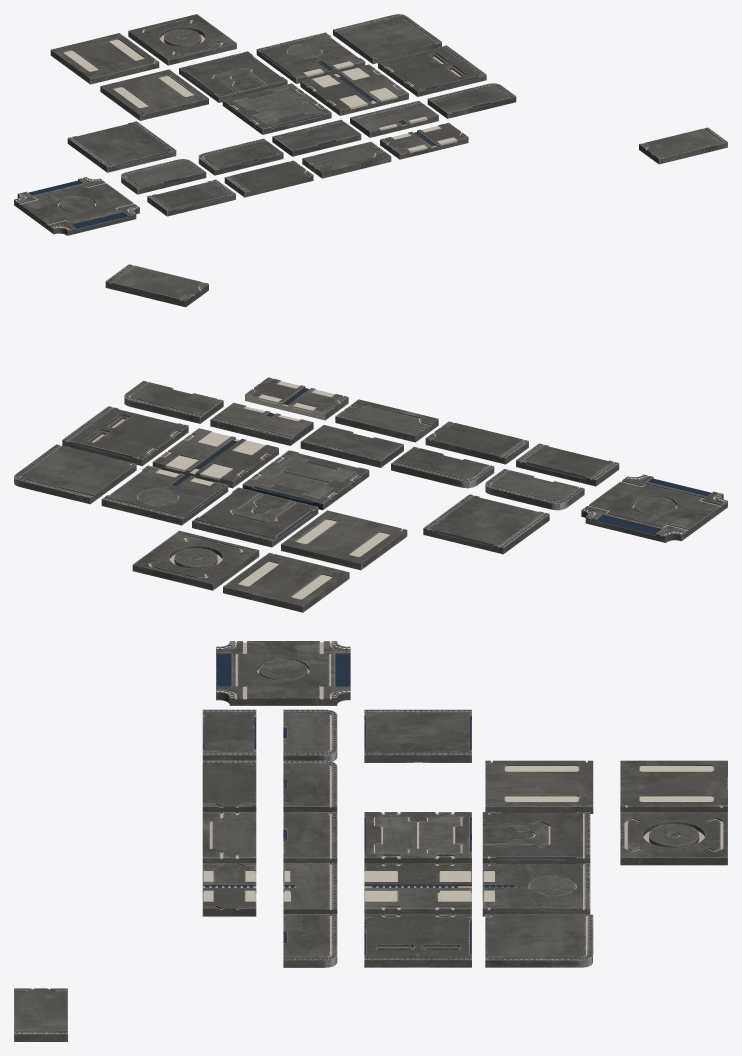
Rendered from floor.gltf.
3 renders of one model, top to bottom at view 1: azimuth 30°, elevation 25°; view 2: azimuth 150°, elevation 25°; view 3: azimuth 270°, elevation 25°, orthographic. The views are drawn at different scales.
Parts seen in each view (by area): view 1: Cube.009, Cube.021, Cube.020, Cube.019, Cube.014, Cube.013, Cube.012, Cube.015, Cube.016, Cube.018, Cube.000, Cube.005 (+9 smaller); view 2: Cube.009, Cube.020, Cube.021, Cube.019, Cube.018, Cube.016, Cube.012, Cube.000, Cube.015, Cube.014, Cube.013, Cube.007 (+9 smaller); view 3: Cube.009, Cube.016, Cube.012, Cube.020, Cube.015, Cube.019, Cube.014, Cube.013, Cube.021, Cube.000, Cube.018, Cube.001 (+9 smaller).
Boxes of the visible parts, x1,y1,x2,y2 form: Cube.009: (14, 177, 139, 235); Cube.021: (50, 33, 159, 84); Cube.020: (128, 14, 236, 65); Cube.019: (100, 69, 208, 120); Cube.014: (300, 64, 408, 115); Cube.013: (222, 83, 331, 134); Cube.012: (67, 121, 176, 172); Cube.015: (378, 45, 486, 96); Cube.016: (333, 14, 441, 64); Cube.018: (179, 51, 287, 102); Cube.000: (256, 32, 365, 83); Cube.005: (272, 119, 361, 156); Cube.009: (581, 474, 727, 542); Cube.020: (132, 530, 259, 590); Cube.021: (223, 552, 349, 612); Cube.019: (281, 510, 407, 570); Cube.018: (192, 487, 318, 547); Cube.016: (14, 444, 136, 504); Cube.012: (423, 494, 549, 554); Cube.000: (101, 465, 228, 525); Cube.015: (62, 406, 188, 466); Cube.014: (152, 428, 278, 488); Cube.013: (242, 450, 369, 510); Cube.007: (425, 421, 528, 464); Cube.009: (216, 641, 350, 705); Cube.016: (485, 914, 593, 967); Cube.012: (364, 709, 471, 762); Cube.020: (620, 812, 727, 865); Cube.015: (364, 914, 471, 967); Cube.019: (485, 760, 593, 813); Cube.014: (364, 863, 471, 915); Cube.013: (364, 812, 471, 864); Cube.021: (620, 760, 727, 811); Cube.000: (482, 863, 590, 916); Cube.018: (482, 812, 590, 864); Cube.001: (202, 863, 256, 916).
Size of the model in its own units: 34.5 by 0.3272 by 26.5.
Materials: 1 (1 with a texture image).
